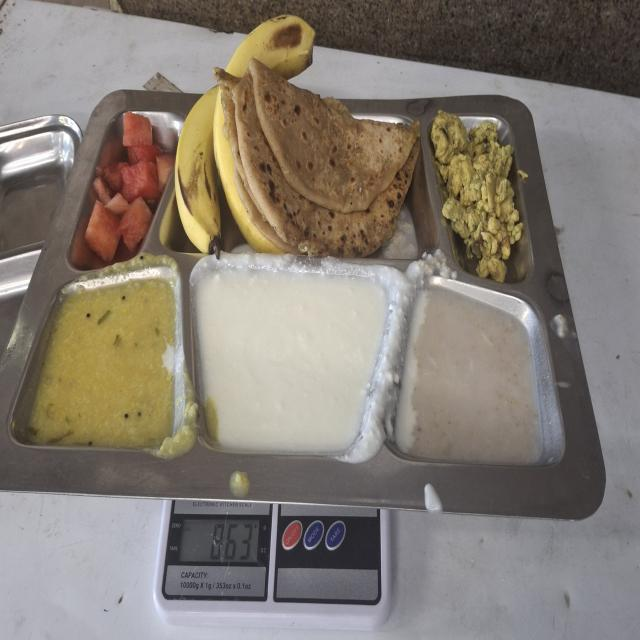Curd: (194, 262, 390, 460)
Egg Bhurji: (429, 107, 524, 285)
Khichdi: (21, 276, 182, 453)
Porridge: (394, 290, 544, 467)
Watermelon: (82, 105, 173, 259)
